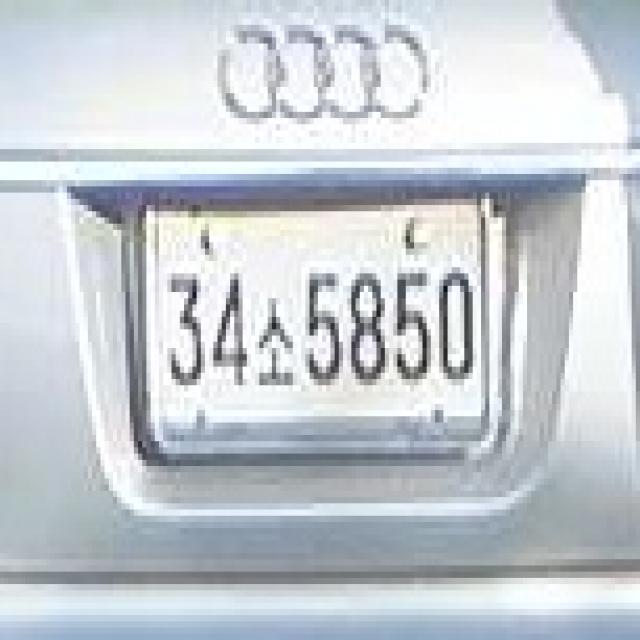0: (435, 267, 477, 379)
3: (167, 267, 205, 385)
4: (209, 274, 251, 386)
5: (393, 261, 431, 385), (305, 267, 343, 385)
8: (347, 261, 389, 385)
license_plate: (134, 186, 493, 442)
so: (251, 292, 293, 391)
